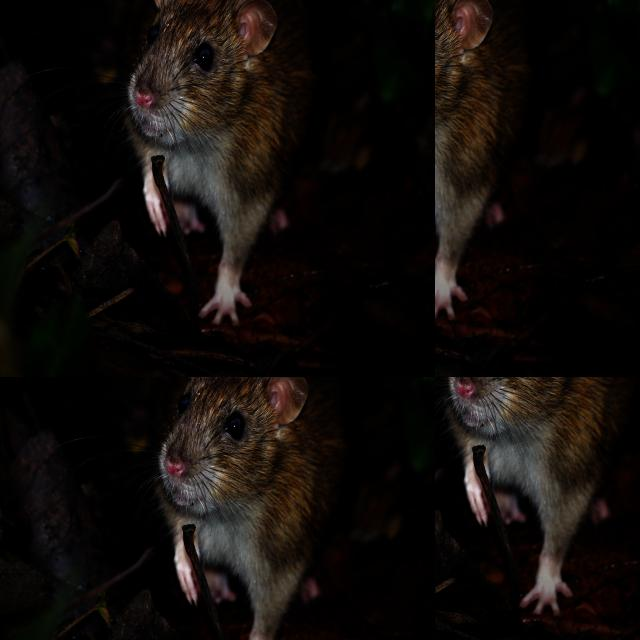rat: (446, 377, 637, 584)
